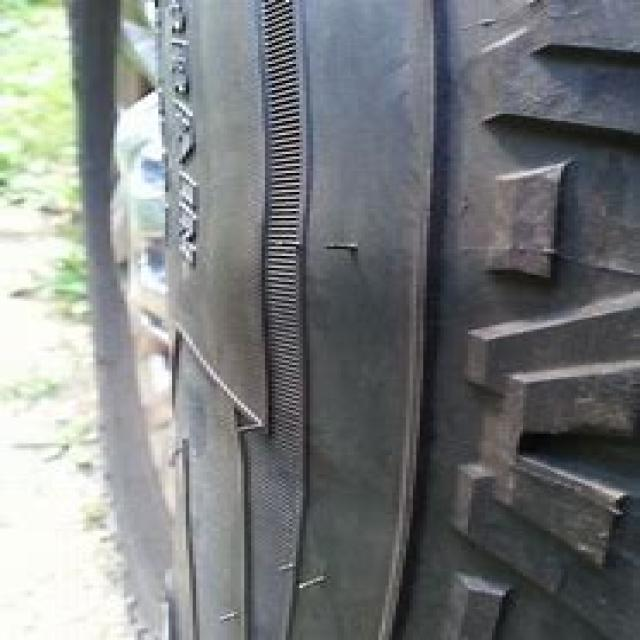Bulge: (170, 205, 454, 328)
